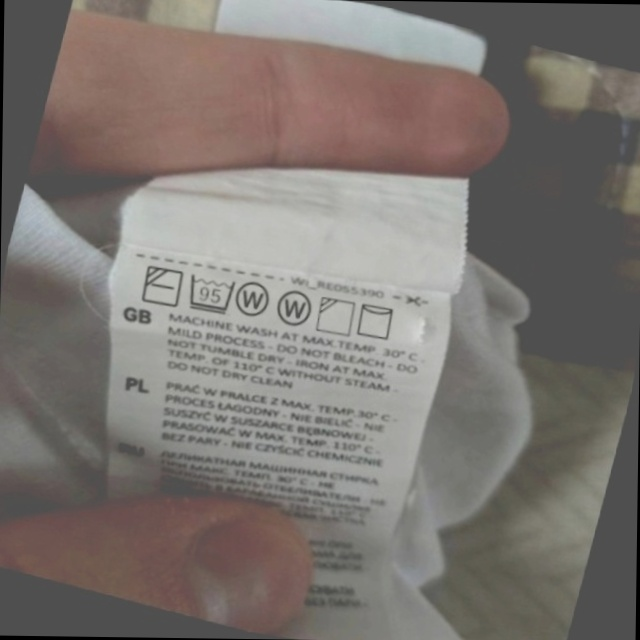95C: (180, 266, 242, 321)
dry_flat_in_shade: (135, 258, 189, 314)
line_dry: (350, 295, 403, 347)
shade_dry: (310, 290, 362, 343)
wet_clean: (270, 283, 320, 335), (230, 272, 279, 324)
